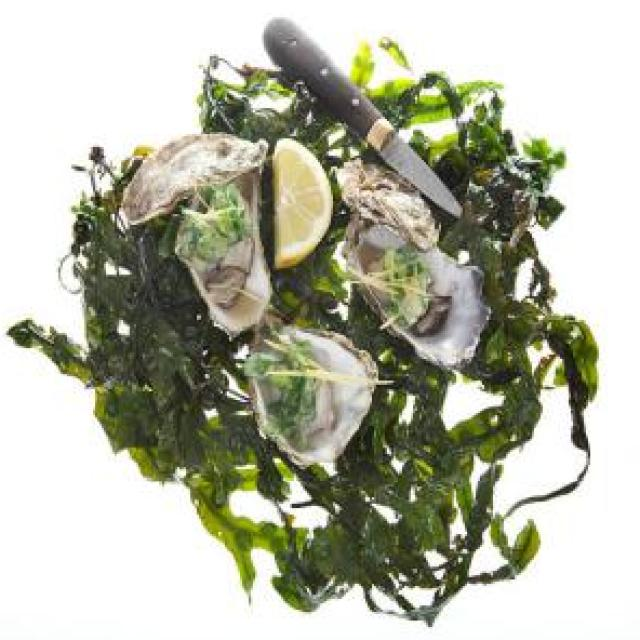knife: (265, 11, 471, 215)
